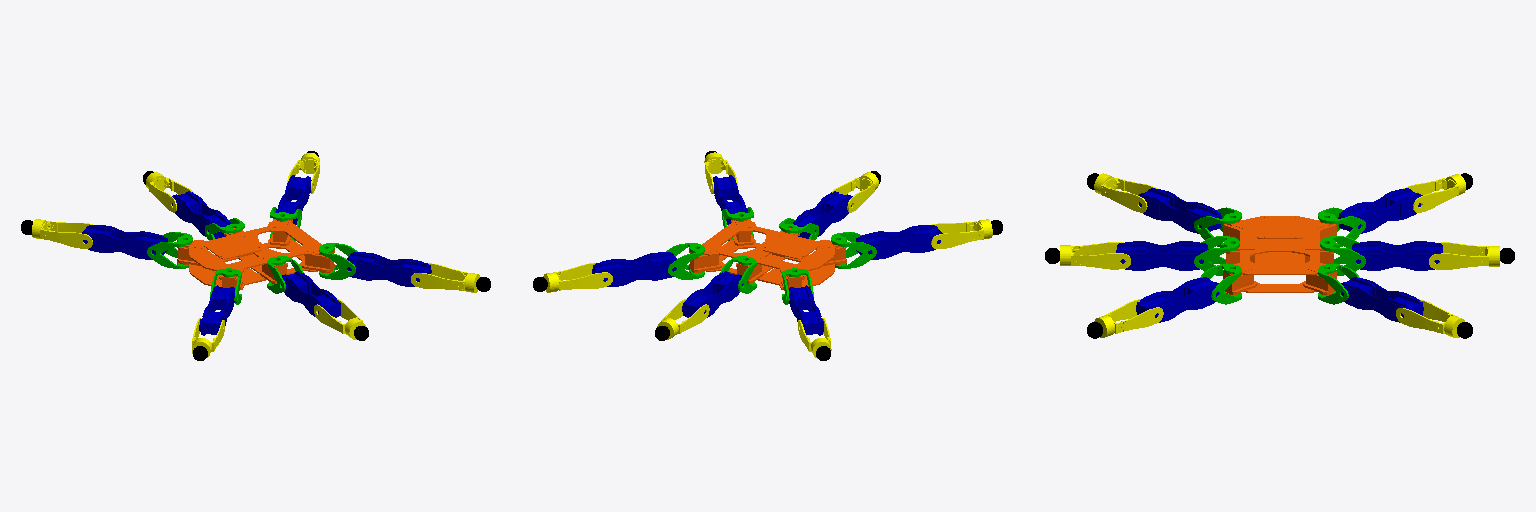
--- Facts derived from the render (not from the file) ---
3 views of the same robot in one strip: view 1: azimuth 30°, elevation 25°; view 2: azimuth 150°, elevation 25°; view 3: azimuth 270°, elevation 25° (orthographic).
Model corin with 25 links and 24 joints (18 revolute, 6 fixed), rooted at body, posed all joints at 0.
Visible links, largest first — view 1: body, rf_upperleg, lr_upperleg, rm_upperleg, lm_upperleg, rf_lowerleg, lr_lowerleg, rr_upperleg, lf_upperleg, lr_hipassembly, rf_hipassembly, lm_lowerleg (+3 smaller); view 2: body, lf_upperleg, rr_upperleg, lm_upperleg, rm_upperleg, lf_lowerleg, rr_lowerleg, lr_upperleg, rf_upperleg, rr_hipassembly, rm_lowerleg, lf_hipassembly (+3 smaller); view 3: body, rm_upperleg, lm_upperleg, rf_upperleg, lf_upperleg, lr_upperleg, rr_upperleg, lm_lowerleg, rm_lowerleg, lf_lowerleg, rf_lowerleg, rr_lowerleg (+7 smaller).
Boxes of the visible links, x1,y1,x2,y2 form: body: (177, 219, 334, 290); rf_upperleg: (347, 252, 431, 286); lr_upperleg: (82, 225, 167, 259); rm_upperleg: (281, 271, 340, 317); lm_upperleg: (172, 191, 230, 238); rf_lowerleg: (411, 263, 479, 292); lr_lowerleg: (32, 219, 92, 248); rr_upperleg: (199, 285, 234, 335); lf_upperleg: (276, 175, 311, 224); lr_hipassembly: (147, 232, 192, 268); rf_hipassembly: (319, 243, 357, 279); lm_lowerleg: (146, 172, 194, 212); body: (689, 219, 846, 290); lf_upperleg: (592, 252, 676, 286); rr_upperleg: (856, 225, 942, 259); lm_upperleg: (682, 271, 742, 317); rm_upperleg: (793, 191, 852, 238); lf_lowerleg: (543, 263, 612, 292); rr_lowerleg: (931, 219, 992, 248); lr_upperleg: (789, 285, 823, 335); rf_upperleg: (713, 175, 747, 224); rr_hipassembly: (831, 232, 876, 268); rm_lowerleg: (832, 172, 878, 212); lf_hipassembly: (666, 243, 704, 279); body: (1223, 216, 1336, 294); rm_upperleg: (1116, 241, 1208, 270); lm_upperleg: (1352, 241, 1442, 270); rf_upperleg: (1136, 277, 1218, 322); lf_upperleg: (1341, 277, 1423, 322); lr_upperleg: (1338, 188, 1422, 233); rr_upperleg: (1138, 188, 1221, 233); lm_lowerleg: (1429, 242, 1499, 269); rm_lowerleg: (1060, 242, 1130, 269); lf_lowerleg: (1396, 299, 1464, 337); rf_lowerleg: (1094, 299, 1163, 337); rr_lowerleg: (1094, 173, 1157, 212).
Bounding box of the posed robot: 0.704 × 0.9 × 0.068 m (x, y, z).
Meshes: 4 distinct files referenced, 19 mesh visuals loaded (3 binary STL, 1 OBJ).

The robot description file, URDF, robot "corin":
<?xml version="1.0"?>
<robot xmlns:xacro="http://www.ros.org/wiki/xacro" name="corin">

	<!-- START OF BODY SECTION!!!!-->
	<link name="body">
		<inertial>
			<origin xyz="0.0 0.0 0.0"/>
			<mass value="1.58"/>
			<inertia ixx="0.00491" iyy="0.007610" izz="0.01123"
					 ixy="0.0" ixz="0.0" iyz="0.0"/> <!-- values above given to 3 sf, 10 sf values available in common.xacro -->
		</inertial>
		<visual>
			<geometry>
				<mesh filename="./meshes/Body2.obj" scale="1 1 1"/> <!--these used to be referenced via ros package, i gave the full file name and moved the files to the drake ws to avoid ROS issues while i figure all this out. Consider coming back and using ROS later to tidy this up -->
			</geometry>
			<material name="orange">
    			<color rgba="1 0.424 0.039 1.0"/>
 			</material> 
		</visual>
		<collision>
			<geometry>
				<mesh filename="./meshes/Body_collision2.obj" scale="1 1 1"/>
			</geometry>
			<material name="colli">
    			<color rgba="1 0.424 0.039 0.7"/>
			</material>
		</collision>
	</link>
	<!--END OF BODY SECTION!!!! -->



	<!--START OF LEFT FRONT LEG SECTION!!!!-->
	<!-- Joints -->
	<!-- Coxa joint -->
	<joint name="lf_q1_joint" type="revolute">
		<origin xyz="0.115 0.09 0" rpy="0 0 0.873"/>
		<parent link="body"/>
		<child  link="lf_hipassembly"/>
		<axis xyz="0 0 1"/>
		
		<limit effort="2.85" velocity="5.23" lower="-1.00" upper="1.00"/>
		<dynamics damping="0.15" friction="0" />
		<!-- <safety_controller k_position="100" k_velocity="100"
						   soft_lower_limit="${-7*PI/18}" soft_upper_limit="${5*PI/36}" /> -->
	</joint>
	<!-- Upper leg joint -->
	<joint name="lf_q2_joint" type="revolute">
		<origin xyz="0.06 0 0" rpy="1.571 0 0"/>
		<parent link="lf_hipassembly"/>
		<child  link="lf_upperleg"/>
		<axis xyz="0 0 1"/>
		<limit effort="2.85" velocity="5.23" lower="-2.22" upper="2.22"/>
		<dynamics damping="0.15" friction="0" />
		<!-- <safety_controller k_position="100" k_velocity="100"
						   soft_lower_limit="${-(1+reflect_front)*5*PI/36-(1-reflect_front)*7*PI/36}"
						   soft_upper_limit="${(1-reflect_front)*5*PI/36+(1+reflect_front)*7*PI/36}" /> -->
	</joint>
	<!-- Lower leg joint -->
	<joint name="lf_q3_joint" type="revolute">
		<origin xyz="0.15 0 0" rpy="0 0 0"/>
		<parent link="lf_upperleg"/>
		<child  link="lf_lowerleg"/>
		<axis xyz="0 0 1"/>
		<limit effort="2.85" velocity="5.23" lower="-2.79" upper="2.79"/>
		<dynamics damping="0.15" friction="0" />
		<!-- <safety_controller k_position="100" k_velocity="100"
						   soft_lower_limit="${-(1+reflect_front)*7*PI/18+(1-reflect_front)*PI/18}"
						   soft_upper_limit="${(1-reflect_front)*7*PI/18-(1+reflect_front)*PI/18}" /> -->

	</joint>
	<!-- Foot joint -->
	<joint name="lf_foot_joint" type="fixed">
		<origin xyz="0.134 0 0" rpy="0 0 0"/>
		<parent link="lf_lowerleg"/>
		<child  link="LF_FOOT"/>
	</joint>


	<!-- Links -->
	<!-- Hip assembly link -->
	<link name="lf_hipassembly">
		<visual>
			<origin rpy="0 0 0" xyz="0 0 0"/>
		      <geometry>
		        <mesh filename="./meshes/Coxa.STL" scale="1 1 1"/>
		      </geometry>
	      	<material name="green">
    			<color rgba="0.0 0.8 0.0 1.0"/>
			</material>
	    </visual>

	    <collision>
	    	<origin rpy="0 0 0" xyz="0 0 0"/>
		    <geometry>
		      <mesh filename="./meshes/Coxa_collision2.obj" scale="1 1 1"/>
		    </geometry>
	      	<material name="orange">
    			<color rgba="1 0.424 0.039 1.0"/>
			</material>
	    </collision>

	    <inertial>
	    	<origin xyz="0.02471 0 0"/>
	      	<mass value="0.0406"/>
	      	<inertia ixx="0.000038" ixy="0.0" ixz="0.0" iyy="0.000038" iyz="0.0" izz="0.000040"/>
	    </inertial>
	  </link>

	<!-- Upper leg link -->
	<link name="lf_upperleg">
		<visual>
	      	<geometry>
	        	<mesh filename="./meshes/Femur.STL" scale="1 1 1"/>
	      	</geometry>
	      	<origin xyz="0 0 0" rpy="0 0 0"/>
	      	<material name="blue">
    			<color rgba="0.0 0.0 0.8 1.0"/>
			</material>
	    </visual>

	    <collision>
	      	<geometry>
	        	<box size= "0.15 0.04 0.04"/>
	      	</geometry>
	      	<origin xyz="0.075 0 0" rpy="0 0 0"/>
	      	<material name="colli">
    			<color rgba="1 0.424 0.039 0.7"/>
			</material>
	    </collision>

	    <inertial>
	      	<mass value="0.35"/>
	      	<inertia ixx="0.000014" ixy="0" ixz="0" iyy="0.000047" iyz="0" izz="0.000051"/>
	      	<origin xyz="0.075 0 0"/>
	    </inertial>
	</link>

	<!-- Lower leg link -->
	<link name="lf_lowerleg">
		<visual>
	      	<geometry>
	      		<mesh filename="./meshes/Tibia.STL" scale="1 1 1"/>
	      	</geometry>
	      	<origin xyz="0 0 0" rpy="1.571 0 0"/>
	      	<material name="yellow">
    			<color rgba="1 1 0 1"/>
			</material>
	    </visual>

	    <collision>
	      	<geometry>
						<mesh filename="./meshes/Tibia_collision2.obj" scale="1 1 1"/>
	        	<!-- <box size= "${tibia_cl} ${tibia_d} ${tibia_w}"/> -->
	      	</geometry>
	      	<origin xyz="0.0 0 0" rpy="1.571 0 0"/>
	      	<material name="colli">
    			<color rgba="1 0.424 0.039 0.7"/>
			</material>
	    </collision>

	    <inertial>
	      	<mass value="0.076"/>
	      	<inertia ixx="0.000025" ixy="0" ixz="0" iyy="0.000105" iyz="0" izz="0.000117"/>
	      	<origin xyz="0.0887 0 0"/>
	    </inertial>
	</link>

	<!-- Foot link -->
	<link name="LF_FOOT">
		<visual>
	      	<geometry>
	        	<sphere radius="0.016"/>
	      	</geometry>
	      	<origin xyz="0 0 0" rpy="0 0 0"/>
	      	<material name="black">
    			<color rgba="0.0 0.0 0.0 1.0"/>
			</material>
	    </visual>

	    <collision>
	      	<geometry>
	        	<sphere radius="0.016"/>
	      	</geometry>
	      	<origin xyz="0 0 0" rpy="0 0 0"/>
	      	<material name="colli">
    			<color rgba="1 0.424 0.039 0.7"/>
			</material>
	    </collision>

	    <inertial>
	      	<mass value="0.040"/>
	      	<inertia ixx="0.000004" ixy="0" ixz="0" iyy="0.000004" iyz="0" izz="0.000004" />
	      	<origin xyz="0 0 0"/>
	    </inertial>
	</link>
	<!--END OF LEFT FRONT LEG SECTION!!!!-->



	<!--START OF LEFT MIDDLE LEG SECTION!!!!-->
	<!-- Joints -->
	<!-- Coxa joint -->
	<joint name="lm_q1_joint" type="revolute">
		<origin xyz="0 0.09 0" rpy="0 0 1.571"/>
		<parent link="body"/>
		<child  link="lm_hipassembly"/>
		<axis xyz="0 0 1"/>
		
		<limit effort="2.85" velocity="5.23" lower="-0.84" upper="0.84"/>
		<dynamics damping="0.15" friction="0" />
		<!-- <safety_controller k_position="100" k_velocity="100"
						   soft_lower_limit="${-7*PI/18}" soft_upper_limit="${5*PI/36}" /> -->
	</joint>
	<!-- Upper leg joint -->
	<joint name="lm_q2_joint" type="revolute">
		<origin xyz="0.06 0 0" rpy="1.571 0 0"/>
		<parent link="lm_hipassembly"/>
		<child  link="lm_upperleg"/>
		<axis xyz="0 0 1"/>
		<limit effort="2.85" velocity="5.23" lower="-2.22" upper="2.22"/>
		<dynamics damping="0.15" friction="0" />
		<!-- <safety_controller k_position="100" k_velocity="100"
						   soft_lower_limit="${-(1+reflect_front)*5*PI/36-(1-reflect_front)*7*PI/36}"
						   soft_upper_limit="${(1-reflect_front)*5*PI/36+(1+reflect_front)*7*PI/36}" /> -->
	</joint>
	<!-- Lower leg joint -->
	<joint name="lm_q3_joint" type="revolute">
		<origin xyz="0.15 0 0" rpy="0 0 0"/>
		<parent link="lm_upperleg"/>
		<child  link="lm_lowerleg"/>
		<axis xyz="0 0 1"/>
		<limit effort="2.85" velocity="5.23" lower="-2.79" upper="2.79"/>
		<dynamics damping="0.15" friction="0" />
		<!-- <safety_controller k_position="100" k_velocity="100"
						   soft_lower_limit="${-(1+reflect_front)*7*PI/18+(1-reflect_front)*PI/18}"
						   soft_upper_limit="${(1-reflect_front)*7*PI/18-(1+reflect_front)*PI/18}" /> -->

	</joint>
	<!-- Foot joint -->
	<joint name="lm_foot_joint" type="fixed">
		<origin xyz="0.134 0 0" rpy="0 0 0"/>
		<parent link="lm_lowerleg"/>
		<child  link="LM_FOOT"/>
	</joint>


	<!-- Links -->
	<!-- Hip assembly link -->
	<link name="lm_hipassembly">
		<visual>
			<origin rpy="0 0 0" xyz="0 0 0"/>
		      <geometry>
		        <mesh filename="./meshes/Coxa.STL" scale="1 1 1"/>
		      </geometry>
	      	<material name="green">
    			<color rgba="0.0 0.8 0.0 1.0"/>
			</material>
	    </visual>

	    <collision>
	    	<origin rpy="0 0 0" xyz="0 0 0"/>
		    <geometry>
		      <mesh filename="./meshes/Coxa_collision2.obj" scale="1 1 1"/>
		    </geometry>
	      	<material name="orange">
    			<color rgba="1 0.424 0.039 1.0"/>
			</material>
	    </collision>

	    <inertial>
	    	<origin xyz="0.02471 0 0"/>
	      	<mass value="0.0406"/>
	      	<inertia ixx="0.000038" ixy="0.0" ixz="0.0" iyy="0.000038" iyz="0.0" izz="0.000040"/>
	    </inertial>
	  </link>

	<!-- Upper leg link -->
	<link name="lm_upperleg">
		<visual>
	      	<geometry>
	        	<mesh filename="./meshes/Femur.STL" scale="1 1 1"/>
	      	</geometry>
	      	<origin xyz="0 0 0" rpy="0 0 0"/>
	      	<material name="blue">
    			<color rgba="0.0 0.0 0.8 1.0"/>
			</material>
	    </visual>

	    <collision>
	      	<geometry>
	        	<box size= "0.15 0.04 0.04"/>
	      	</geometry>
	      	<origin xyz="0.075 0 0" rpy="0 0 0"/>
	      	<material name="colli">
    			<color rgba="1 0.424 0.039 0.7"/>
			</material>
	    </collision>

	    <inertial>
	      	<mass value="0.35"/>
	      	<inertia ixx="0.000014" ixy="0" ixz="0" iyy="0.000047" iyz="0" izz="0.000051"/>
	      	<origin xyz="0.075 0 0"/>
	    </inertial>
	</link>

	<!-- Lower leg link -->
	<link name="lm_lowerleg">
		<visual>
	      	<geometry>
	      		<mesh filename="./meshes/Tibia.STL" scale="1 1 1"/>
	      	</geometry>
	      	<origin xyz="0 0 0" rpy="1.571 0 0"/>
	      	<material name="yellow">
    			<color rgba="1 1 0 1"/>
			</material>
	    </visual>

	    <collision>
	      	<geometry>
						<mesh filename="./meshes/Tibia_collision2.obj" scale="1 1 1"/>
	        	<!-- <box size= "${tibia_cl} ${tibia_d} ${tibia_w}"/> -->
	      	</geometry>
	      	<origin xyz="0.0 0 0" rpy="1.571 0 0"/>
	      	<material name="colli">
    			<color rgba="1 0.424 0.039 0.7"/>
			</material>
	    </collision>

	    <inertial>
	      	<mass value="0.076"/>
	      	<inertia ixx="0.000025" ixy="0" ixz="0" iyy="0.000105" iyz="0" izz="0.000117"/>
	      	<origin xyz="0.0887 0 0"/>
	    </inertial>
	</link>

	<!-- Foot link -->
	<link name="LM_FOOT">
		<visual>
	      	<geometry>
	        	<sphere radius="0.016"/>
	      	</geometry>
	      	<origin xyz="0 0 0" rpy="0 0 0"/>
	      	<material name="black">
    			<color rgba="0.0 0.0 0.0 1.0"/>
			</material>
	    </visual>

	    <collision>
	      	<geometry>
	        	<sphere radius="0.016"/>
	      	</geometry>
	      	<origin xyz="0 0 0" rpy="0 0 0"/>
	      	<material name="colli">
    			<color rgba="1 0.424 0.039 0.7"/>
			</material>
	    </collision>

	    <inertial>
	      	<mass value="0.040"/>
	      	<inertia ixx="0.000004" ixy="0" ixz="0" iyy="0.000004" iyz="0" izz="0.000004" />
	      	<origin xyz="0 0 0"/>
	    </inertial>
	</link>
	<!--END OF LEFT MIDDLE LEG SECTION!!!!-->



	<!--START OF LEFT REAR LEG SECTION!!!!-->
	<!-- Joints -->
	<!-- Coxa joint -->
	<joint name="lr_q1_joint" type="revolute">
		<origin xyz="-0.115 0.09 0" rpy="0 0 2.269"/>
		<parent link="body"/>
		<child  link="lr_hipassembly"/>
		<axis xyz="0 0 1"/>
		
		<limit effort="2.85" velocity="5.23" lower="-1.00" upper="1.00"/>
		<dynamics damping="0.15" friction="0" />
		<!-- <safety_controller k_position="100" k_velocity="100"
						   soft_lower_limit="${-7*PI/18}" soft_upper_limit="${5*PI/36}" /> -->
	</joint>
	<!-- Upper leg joint -->
	<joint name="lr_q2_joint" type="revolute">
		<origin xyz="0.06 0 0" rpy="1.571 0 0"/>
		<parent link="lr_hipassembly"/>
		<child  link="lr_upperleg"/>
		<axis xyz="0 0 1"/>
		<limit effort="2.85" velocity="5.23" lower="-2.22" upper="2.22"/>
		<dynamics damping="0.15" friction="0" />
		<!-- <safety_controller k_position="100" k_velocity="100"
						   soft_lower_limit="${-(1+reflect_front)*5*PI/36-(1-reflect_front)*7*PI/36}"
						   soft_upper_limit="${(1-reflect_front)*5*PI/36+(1+reflect_front)*7*PI/36}" /> -->
	</joint>
	<!-- Lower leg joint -->
	<joint name="lr_q3_joint" type="revolute">
		<origin xyz="0.15 0 0" rpy="0 0 0"/>
		<parent link="lr_upperleg"/>
		<child  link="lr_lowerleg"/>
		<axis xyz="0 0 1"/>
		<limit effort="2.85" velocity="5.23" lower="-2.79" upper="2.79"/>
		<dynamics damping="0.15" friction="0" />
		<!-- <safety_controller k_position="100" k_velocity="100"
						   soft_lower_limit="${-(1+reflect_front)*7*PI/18+(1-reflect_front)*PI/18}"
						   soft_upper_limit="${(1-reflect_front)*7*PI/18-(1+reflect_front)*PI/18}" /> -->

	</joint>
	<!-- Foot joint -->
	<joint name="lr_foot_joint" type="fixed">
		<origin xyz="0.134 0 0" rpy="0 0 0"/>
		<parent link="lr_lowerleg"/>
		<child  link="LH_FOOT"/>
	</joint>


	<!-- Links -->
	<!-- Hip assembly link -->
	<link name="lr_hipassembly">
		<visual>
			<origin rpy="0 0 0" xyz="0 0 0"/>
		      <geometry>
		        <mesh filename="./meshes/Coxa.STL" scale="1 1 1"/>
		      </geometry>
	      	<material name="green">
    			<color rgba="0.0 0.8 0.0 1.0"/>
			</material>
	    </visual>

	    <collision>
	    	<origin rpy="0 0 0" xyz="0 0 0"/>
		    <geometry>
		      <mesh filename="./meshes/Coxa_collision2.obj" scale="1 1 1"/>
		    </geometry>
	      	<material name="orange">
    			<color rgba="1 0.424 0.039 1.0"/>
			</material>
	    </collision>

	    <inertial>
	    	<origin xyz="0.02471 0 0"/>
	      	<mass value="0.0406"/>
	      	<inertia ixx="0.000038" ixy="0.0" ixz="0.0" iyy="0.000038" iyz="0.0" izz="0.000040"/>
	    </inertial>
	  </link>

	<!-- Upper leg link -->
	<link name="lr_upperleg">
		<visual>
	      	<geometry>
	        	<mesh filename="./meshes/Femur.STL" scale="1 1 1"/>
	      	</geometry>
	      	<origin xyz="0 0 0" rpy="0 0 0"/>
	      	<material name="blue">
    			<color rgba="0.0 0.0 0.8 1.0"/>
			</material>
	    </visual>

	    <collision>
	      	<geometry>
	        	<box size= "0.15 0.04 0.04"/>
	      	</geometry>
	      	<origin xyz="0.075 0 0" rpy="0 0 0"/>
	      	<material name="colli">
    			<color rgba="1 0.424 0.039 0.7"/>
			</material>
	    </collision>

	    <inertial>
	      	<mass value="0.35"/>
	      	<inertia ixx="0.000014" ixy="0" ixz="0" iyy="0.000047" iyz="0" izz="0.000051"/>
	      	<origin xyz="0.075 0 0"/>
	    </inertial>
	</link>

	<!-- Lower leg link -->
	<link name="lr_lowerleg">
		<visual>
	      	<geometry>
	      		<mesh filename="./meshes/Tibia.STL" scale="1 1 1"/>
	      	</geometry>
	      	<origin xyz="0 0 0" rpy="1.571 0 0"/>
	      	<material name="yellow">
    			<color rgba="1 1 0 1"/>
			</material>
	    </visual>

	    <collision>
	      	<geometry>
						<mesh filename="./meshes/Tibia_collision2.obj" scale="1 1 1"/>
	        	<!-- <box size= "${tibia_cl} ${tibia_d} ${tibia_w}"/> -->
	      	</geometry>
	      	<origin xyz="0.0 0 0" rpy="1.571 0 0"/>
	      	<material name="colli">
    			<color rgba="1 0.424 0.039 0.7"/>
			</material>
	    </collision>

	    <inertial>
	      	<mass value="0.076"/>
	      	<inertia ixx="0.000025" ixy="0" ixz="0" iyy="0.000105" iyz="0" izz="0.000117"/>
	      	<origin xyz="0.0887 0 0"/>
	    </inertial>
	</link>

	<!-- Foot link -->
	<link name="LH_FOOT">
		<visual>
	      	<geometry>
	        	<sphere radius="0.016"/>
	      	</geometry>
	      	<origin xyz="0 0 0" rpy="0 0 0"/>
	      	<material name="black">
    			<color rgba="0.0 0.0 0.0 1.0"/>
			</material>
	    </visual>

	    <collision>
	      	<geometry>
	        	<sphere radius="0.016"/>
	      	</geometry>
	      	<origin xyz="0 0 0" rpy="0 0 0"/>
	      	<material name="colli">
    			<color rgba="1 0.424 0.039 0.7"/>
			</material>
	    </collision>

	    <inertial>
	      	<mass value="0.040"/>
	      	<inertia ixx="0.000004" ixy="0" ixz="0" iyy="0.000004" iyz="0" izz="0.000004" />
	      	<origin xyz="0 0 0"/>
	    </inertial>
	</link>
	<!--END OF LEFT REAR LEG SECTION!!!!-->




	<!--START OF RIGHT FRONT LEG SECTION!!!!-->
	<!-- Joints -->
	<!-- Coxa joint -->
	<joint name="rf_q1_joint" type="revolute">
		<origin xyz="0.115 -0.09 0" rpy="0 0 -0.873"/>
		<parent link="body"/>
		<child  link="rf_hipassembly"/>
		<axis xyz="0 0 1"/>
		
		<limit effort="2.85" velocity="5.23" lower="-1.00" upper="1.00"/>
		<dynamics damping="0.15" friction="0" />
		<!-- <safety_controller k_position="100" k_velocity="100"
						   soft_lower_limit="${-7*PI/18}" soft_upper_limit="${5*PI/36}" /> -->
	</joint>
	<!-- Upper leg joint -->
	<joint name="rf_q2_joint" type="revolute">
		<origin xyz="0.06 0 0" rpy="1.571 0 0"/>
		<parent link="rf_hipassembly"/>
		<child  link="rf_upperleg"/>
		<axis xyz="0 0 1"/>
		<limit effort="2.85" velocity="5.23" lower="-2.22" upper="2.22"/>
		<dynamics damping="0.15" friction="0" />
		<!-- <safety_controller k_position="100" k_velocity="100"
						   soft_lower_limit="${-(1+reflect_front)*5*PI/36-(1-reflect_front)*7*PI/36}"
						   soft_upper_limit="${(1-reflect_front)*5*PI/36+(1+reflect_front)*7*PI/36}" /> -->
	</joint>
	<!-- Lower leg joint -->
	<joint name="rf_q3_joint" type="revolute">
		<origin xyz="0.15 0 0" rpy="0 0 0"/>
		<parent link="rf_upperleg"/>
		<child  link="rf_lowerleg"/>
		<axis xyz="0 0 1"/>
		<limit effort="2.85" velocity="5.23" lower="-2.79" upper="2.79"/>
		<dynamics damping="0.15" friction="0" />
		<!-- <safety_controller k_position="100" k_velocity="100"
						   soft_lower_limit="${-(1+reflect_front)*7*PI/18+(1-reflect_front)*PI/18}"
						   soft_upper_limit="${(1-reflect_front)*7*PI/18-(1+reflect_front)*PI/18}" /> -->

	</joint>
	<!-- Foot joint -->
	<joint name="rf_foot_joint" type="fixed">
		<origin xyz="0.134 0 0" rpy="0 0 0"/>
		<parent link="rf_lowerleg"/>
		<child  link="RF_FOOT"/>
	</joint>


	<!-- Links -->
	<!-- Hip assembly link -->
	<link name="rf_hipassembly">
		<visual>
			<origin rpy="0 0 0" xyz="0 0 0"/>
		      <geometry>
		        <mesh filename="./meshes/Coxa.STL" scale="1 1 1"/>
		      </geometry>
	      	<material name="green">
    			<color rgba="0.0 0.8 0.0 1.0"/>
			</material>
	    </visual>

	    <collision>
	    	<origin rpy="0 0 0" xyz="0 0 0"/>
		    <geometry>
		      <mesh filename="./meshes/Coxa_collision2.obj" scale="1 1 1"/>
		    </geometry>
	      	<material name="orange">
    			<color rgba="1 0.424 0.039 1.0"/>
			</material>
	    </collision>

	    <inertial>
	    	<origin xyz="0.02471 0 0"/>
	      	<mass value="0.0406"/>
	      	<inertia ixx="0.000038" ixy="0.0" ixz="0.0" iyy="0.000038" iyz="0.0" izz="0.000040"/>
	    </inertial>
	  </link>

	<!-- Upper leg link -->
	<link name="rf_upperleg">
		<visual>
	      	<geometry>
	        	<mesh filename="./meshes/Femur.STL" scale="1 1 1"/>
	      	</geometry>
	      	<origin xyz="0 0 0" rpy="0 0 0"/>
	      	<material name="blue">
    			<color rgba="0.0 0.0 0.8 1.0"/>
			</material>
	    </visual>

	    <collision>
	      	<geometry>
	        	<box size= "0.15 0.04 0.04"/>
	      	</geometry>
	      	<origin xyz="0.075 0 0" rpy="0 0 0"/>
	      	<material name="colli">
    			<color rgba="1 0.424 0.039 0.7"/>
			</material>
	    </collision>

	    <inertial>
	      	<mass value="0.35"/>
	      	<inertia ixx="0.000014" ixy="0" ixz="0" iyy="0.000047" iyz="0" izz="0.000051"/>
	      	<origin xyz="0.075 0 0"/>
	    </inertial>
	</link>

	<!-- Lower leg link -->
	<link name="rf_lowerleg">
		<visual>
	      	<geometry>
	      		<mesh filename="./meshes/Tibia.STL" scale="1 1 1"/>
	      	</geometry>
	      	<origin xyz="0 0 0" rpy="1.571 0 0"/>
	      	<material name="yellow">
    			<color rgba="1 1 0 1"/>
			</material>
	    </visual>

	    <collision>
	      	<geometry>
						<mesh filename="./meshes/Tibia_collision2.obj" scale="1 1 1"/>
	        	<!-- <box size= "${tibia_cl} ${tibia_d} ${tibia_w}"/> -->
	      	</geometry>
	      	<origin xyz="0.0 0 0" rpy="1.571 0 0"/>
	      	<material name="colli">
    			<color rgba="1 0.424 0.039 0.7"/>
			</material>
	    </collision>

	    <inertial>
	      	<mass value="0.076"/>
	      	<inertia ixx="0.000025" ixy="0" ixz="0" iyy="0.000105" iyz="0" izz="0.000117"/>
	      	<origin xyz="0.0887 0 0"/>
	    </inertial>
	</link>

	<!-- Foot link -->
	<link name="RF_FOOT">
		<visual>
	      	<geometry>
	        	<sphere radius="0.016"/>
	      	</geometry>
	      	<origin xyz="0 0 0" rpy="0 0 0"/>
	      	<material name="black">
    			<color rgba="0.0 0.0 0.0 1.0"/>
			</material>
	    </visual>

	    <collision>
	      	<geometry>
	        	<sphere radius="0.016"/>
	      	</geometry>
	      	<origin xyz="0 0 0" rpy="0 0 0"/>
	      	<material name="colli">
    			<color rgba="1 0.424 0.039 0.7"/>
			</material>
	    </collision>

	    <inertial>
	      	<mass value="0.040"/>
	      	<inertia ixx="0.000004" ixy="0" ixz="0" iyy="0.000004" iyz="0" izz="0.000004" />
	      	<origin xyz="0 0 0"/>
	    </inertial>
	</link>
	<!--END OF RIGHT FRONT LEG SECTION!!!!-->


	<!--START OF RIGHT MIDDLE LEG SECTION!!!!-->
	<!-- Joints -->
	<!-- Coxa joint -->
	<joint name="rm_q1_joint" type="revolute">
		<origin xyz="0 -0.09 0" rpy="0 0 -1.571"/> <!--PUT ORIGIN OF LEG HERE-->
		<parent link="body"/>
		<child  link="rm_hipassembly"/>
		<axis xyz="0 0 1"/>
		
		<limit effort="2.85" velocity="5.23" lower="-0.84" upper="0.84"/>
		<dynamics damping="0.15" friction="0" />
		<!-- <safety_controller k_position="100" k_velocity="100"
						   soft_lower_limit="${-7*PI/18}" soft_upper_limit="${5*PI/36}" /> -->
	</joint>
	<!-- Upper leg joint -->
	<joint name="rm_q2_joint" type="revolute">
		<origin xyz="0.06 0 0" rpy="1.571 0 0"/>
		<parent link="rm_hipassembly"/>
		<child  link="rm_upperleg"/>
		<axis xyz="0 0 1"/>
		<limit effort="2.85" velocity="5.23" lower="-2.22" upper="2.22"/>
		<dynamics damping="0.15" friction="0" />
		<!-- <safety_controller k_position="100" k_velocity="100"
						   soft_lower_limit="${-(1+reflect_front)*5*PI/36-(1-reflect_front)*7*PI/36}"
						   soft_upper_limit="${(1-reflect_front)*5*PI/36+(1+reflect_front)*7*PI/36}" /> -->
	</joint>
	<!-- Lower leg joint -->
	<joint name="rm_q3_joint" type="revolute">
		<origin xyz="0.15 0 0" rpy="0 0 0"/>
		<parent link="rm_upperleg"/>
		<child  link="rm_lowerleg"/>
		<axis xyz="0 0 1"/>
		<limit effort="2.85" velocity="5.23" lower="-2.79" upper="2.79"/>
		<dynamics damping="0.15" friction="0" />
		<!-- <safety_controller k_position="100" k_velocity="100"
						   soft_lower_limit="${-(1+reflect_front)*7*PI/18+(1-reflect_front)*PI/18}"
						   soft_upper_limit="${(1-reflect_front)*7*PI/18-(1+reflect_front)*PI/18}" /> -->

	</joint>
	<!-- Foot joint -->
	<joint name="rm_foot_joint" type="fixed">
		<origin xyz="0.134 0 0" rpy="0 0 0"/>
		<parent link="rm_lowerleg"/>
		<child  link="RM_FOOT"/>
	</joint>


	<!-- Links -->
	<!-- Hip assembly link -->
	<link name="rm_hipassembly">
		<visual>
			<origin rpy="0 0 0" xyz="0 0 0"/>
		      <geometry>
		        <mesh filename="./meshes/Coxa.STL" scale="1 1 1"/>
		      </geometry>
	      	<material name="green">
    			<color rgba="0.0 0.8 0.0 1.0"/>
			</material>
	    </visual>

	    <collision>
	    	<origin rpy="0 0 0" xyz="0 0 0"/>
		    <geometry>
		      <mesh filename="./meshes/Coxa_collision2.obj" scale="1 1 1"/>
		    </geometry>
	      	<material name="orange">
    			<color rgba="1 0.424 0.039 1.0"/>
			</material>
	    </collision>

	    <inertial>
	    	<origin xyz="0.02471 0 0"/>
	      	<mass value="0.0406"/>
	      	<inertia ixx="0.000038" ixy="0.0" ixz="0.0" iyy="0.000038" iyz="0.0" izz="0.000040"/>
	    </inertial>
	  </link>

	<!-- Upper leg link -->
	<link name="rm_upperleg">
		<visual>
	      	<geometry>
	        	<mesh filename="./meshes/Femur.STL" scale="1 1 1"/>
	      	</geometry>
	      	<origin xyz="0 0 0" rpy="0 0 0"/>
	      	<material name="blue">
    			<color rgba="0.0 0.0 0.8 1.0"/>
			</material>
	    </visual>

	    <collision>
	      	<geometry>
	        	<box size= "0.15 0.04 0.04"/>
	      	</geometry>
	      	<origin xyz="0.075 0 0" rpy="0 0 0"/>
	      	<material name="colli">
    			<color rgba="1 0.424 0.039 0.7"/>
			</material>
	    </collision>

	    <inertial>
	      	<mass value="0.35"/>
	      	<inertia ixx="0.000014" ixy="0" ixz="0" iyy="0.000047" iyz="0" izz="0.000051"/>
	      	<origin xyz="0.075 0 0"/>
	    </inertial>
	</link>

	<!-- Lower leg link -->
	<link name="rm_lowerleg">
		<visual>
	      	<geometry>
	      		<mesh filename="./meshes/Tibia.STL" scale="1 1 1"/>
	      	</geometry>
	      	<origin xyz="0 0 0" rpy="1.571 0 0"/>
	      	<material name="yellow">
    			<color rgba="1 1 0 1"/>
			</material>
	    </visual>

	    <collision>
	      	<geometry>
						<mesh filename="./meshes/Tibia_collision2.obj" scale="1 1 1"/>
	        	<!-- <box size= "${tibia_cl} ${tibia_d} ${tibia_w}"/> -->
	      	</geometry>
	      	<origin xyz="0.0 0 0" rpy="1.571 0 0"/>
	      	<material name="colli">
    			<color rgba="1 0.424 0.039 0.7"/>
			</material>
	    </collision>

	    <inertial>
	      	<mass value="0.076"/>
	      	<inertia ixx="0.000025" ixy="0" ixz="0" iyy="0.000105" iyz="0" izz="0.000117"/>
	      	<origin xyz="0.0887 0 0"/>
	    </inertial>
	</link>

	<!-- Foot link -->
	<link name="RM_FOOT">
		<visual>
	      	<geometry>
	        	<sphere radius="0.016"/>
	      	</geometry>
	      	<origin xyz="0 0 0" rpy="0 0 0"/>
	      	<material name="black">
    			<color rgba="0.0 0.0 0.0 1.0"/>
			</material>
	    </visual>

	    <collision>
	      	<geometry>
	        	<sphere radius="0.016"/>
	      	</geometry>
	      	<origin xyz="0 0 0" rpy="0 0 0"/>
	      	<material name="colli">
    			<color rgba="1 0.424 0.039 0.7"/>
			</material>
	    </collision>

	    <inertial>
	      	<mass value="0.040"/>
	      	<inertia ixx="0.000004" ixy="0" ixz="0" iyy="0.000004" iyz="0" izz="0.000004" />
	      	<origin xyz="0 0 0"/>
	    </inertial>
	</link>
	<!--END OF LEFT FRONT LEG SECTION!!!!-->


	<!--START OF RIGHT REAR LEG SECTION!!!!-->
	<!-- Joints -->
	<!-- Coxa joint -->
	<joint name="rr_q1_joint" type="revolute">
		<origin xyz="-0.115 -0.09 0" rpy="0 0 -2.269"/>
		<parent link="body"/>
		<child  link="rr_hipassembly"/>
		<axis xyz="0 0 1"/>
		
		<limit effort="2.85" velocity="5.23" lower="-1.00" upper="1.00"/>
		<dynamics damping="0.15" friction="0" />
		<!-- <safety_controller k_position="100" k_velocity="100"
						   soft_lower_limit="${-7*PI/18}" soft_upper_limit="${5*PI/36}" /> -->
	</joint>
	<!-- Upper leg joint -->
	<joint name="rr_q2_joint" type="revolute">
		<origin xyz="0.06 0 0" rpy="1.571 0 0"/>
		<parent link="rr_hipassembly"/>
		<child  link="rr_upperleg"/>
		<axis xyz="0 0 1"/>
		<limit effort="2.85" velocity="5.23" lower="-2.22" upper="2.22"/>
		<dynamics damping="0.15" friction="0" />
		<!-- <safety_controller k_position="100" k_velocity="100"
						   soft_lower_limit="${-(1+reflect_front)*5*PI/36-(1-reflect_front)*7*PI/36}"
						   soft_upper_limit="${(1-reflect_front)*5*PI/36+(1+reflect_front)*7*PI/36}" /> -->
	</joint>
	<!-- Lower leg joint -->
	<joint name="rr_q3_joint" type="revolute">
		<origin xyz="0.15 0 0" rpy="0 0 0"/>
		<parent link="rr_upperleg"/>
		<child  link="rr_lowerleg"/>
		<axis xyz="0 0 1"/>
		<limit effort="2.85" velocity="5.23" lower="-2.79" upper="2.79"/>
		<dynamics damping="0.15" friction="0" />
		<!-- <safety_controller k_position="100" k_velocity="100"
						   soft_lower_limit="${-(1+reflect_front)*7*PI/18+(1-reflect_front)*PI/18}"
						   soft_upper_limit="${(1-reflect_front)*7*PI/18-(1+reflect_front)*PI/18}" /> -->

	</joint>
	<!-- Foot joint -->
	<joint name="rr_foot_joint" type="fixed">
		<origin xyz="0.134 0 0" rpy="0 0 0"/>
		<parent link="rr_lowerleg"/>
		<child  link="RH_FOOT"/>
	</joint>


	<!-- Links -->
	<!-- Hip assembly link -->
	<link name="rr_hipassembly">
		<visual>
			<origin rpy="0 0 0" xyz="0 0 0"/>
		      <geometry>
		        <mesh filename="./meshes/Coxa.STL" scale="1 1 1"/>
		      </geometry>
	      	<material name="green">
    			<color rgba="0.0 0.8 0.0 1.0"/>
			</material>
	    </visual>

	    <collision>
	    	<origin rpy="0 0 0" xyz="0 0 0"/>
		    <geometry>
		      <mesh filename="./meshes/Coxa_collision2.obj" scale="1 1 1"/>
		    </geometry>
	      	<material name="orange">
    			<color rgba="1 0.424 0.039 1.0"/>
			</material>
	    </collision>

	    <inertial>
	    	<origin xyz="0.02471 0 0"/>
	      	<mass value="0.0406"/>
	      	<inertia ixx="0.000038" ixy="0.0" ixz="0.0" iyy="0.000038" iyz="0.0" izz="0.000040"/>
	    </inertial>
	  </link>

	<!-- Upper leg link -->
	<link name="rr_upperleg">
		<visual>
	      	<geometry>
	        	<mesh filename="./meshes/Femur.STL" scale="1 1 1"/>
	      	</geometry>
	      	<origin xyz="0 0 0" rpy="0 0 0"/>
	      	<material name="blue">
    			<color rgba="0.0 0.0 0.8 1.0"/>
			</material>
	    </visual>

	    <collision>
	      	<geometry>
	        	<box size= "0.15 0.04 0.04"/>
	      	</geometry>
	      	<origin xyz="0.075 0 0" rpy="0 0 0"/>
	      	<material name="colli">
    			<color rgba="1 0.424 0.039 0.7"/>
			</material>
	    </collision>

	    <inertial>
	      	<mass value="0.35"/>
	      	<inertia ixx="0.000014" ixy="0" ixz="0" iyy="0.000047" iyz="0" izz="0.000051"/>
	      	<origin xyz="0.075 0 0"/>
	    </inertial>
	</link>

	<!-- Lower leg link -->
	<link name="rr_lowerleg">
		<visual>
	      	<geometry>
	      		<mesh filename="./meshes/Tibia.STL" scale="1 1 1"/>
	      	</geometry>
	      	<origin xyz="0 0 0" rpy="1.571 0 0"/>
	      	<material name="yellow">
    			<color rgba="1 1 0 1"/>
			</material>
	    </visual>

	    <collision>
	      	<geometry>
						<mesh filename="./meshes/Tibia_collision2.obj" scale="1 1 1"/>
	        	<!-- <box size= "${tibia_cl} ${tibia_d} ${tibia_w}"/> -->
	      	</geometry>
	      	<origin xyz="0.0 0 0" rpy="1.571 0 0"/>
	      	<material name="colli">
    			<color rgba="1 0.424 0.039 0.7"/>
			</material>
	    </collision>

	    <inertial>
	      	<mass value="0.076"/>
	      	<inertia ixx="0.000025" ixy="0" ixz="0" iyy="0.000105" iyz="0" izz="0.000117"/>
	      	<origin xyz="0.0887 0 0"/>
	    </inertial>
	</link>

	<!-- Foot link -->
	<link name="RH_FOOT">
		<visual>
	      	<geometry>
	        	<sphere radius="0.016"/>
	      	</geometry>
	      	<origin xyz="0 0 0" rpy="0 0 0"/>
	      	<material name="black">
    			<color rgba="0.0 0.0 0.0 1.0"/>
			</material>
	    </visual>

	    <collision>
	      	<geometry>
	        	<sphere radius="0.016"/>
	      	</geometry>
	      	<origin xyz="0 0 0" rpy="0 0 0"/>
	      	<material name="colli">
    			<color rgba="1 0.424 0.039 0.7"/>
			</material>
	    </collision>

	    <inertial>
	      	<mass value="0.040"/>
	      	<inertia ixx="0.000004" ixy="0" ixz="0" iyy="0.000004" iyz="0" izz="0.000004" />
	      	<origin xyz="0 0 0"/>
	    </inertial>
	</link>
	<!--END OF RIGHT REAR LEG SECTION!!!!-->

	<!-- Sensors 
	<xacro:IMU
		parent="body"
		imu_name="base_imu"
		imu_topic="base/data"
		imu_service="trunk/service"
		update_rate="100">
		<origin xyz="0.0 0.0 0.022" rpy="0 0 0"/>
	</xacro:IMU>
	
	<xacro:LIDAR
		parent="body"
		lidar_name="trunk_lidar"
		lidar_topic="lidar/data"
		update_rate="100">
		<origin xyz="0.06 0.0 0.04" rpy="0 0 1.571"/>
	</xacro:LIDAR> -->

<!-- Joint Transmissions: Tells Drake that these are actuated-->

	<!-- START OF LEFT FRONT LEG TRANSMISSION -->
    <!-- Hip assembly -->
	<transmission name="lf_q1_trans">
		<type>transmission_interface/SimpleTransmission</type>
		<joint name="lf_q1_joint">
			<hardwareInterface>hardware_interface/EffortJointInterface</hardwareInterface>
		</joint>
		<actuator name="lf_q1_motor">
			<hardwareInterface>EffortJointInterface</hardwareInterface>
			<mechanicalReduction>200</mechanicalReduction>
		</actuator>
	</transmission>
	<!-- Upper leg -->
	<transmission name="lf_q2_trans">
		<type>transmission_interface/SimpleTransmission</type>
		<joint name="lf_q2_joint">
			<hardwareInterface>hardware_interface/EffortJointInterface</hardwareInterface>
		</joint>
		<actuator name="lf_q2_motor">
			<hardwareInterface>EffortJointInterface</hardwareInterface>
			<mechanicalReduction>200</mechanicalReduction>
		</actuator>
	</transmission>
	<!-- Lower leg -->
	<transmission name="lf_q3_trans">
		<type>transmission_interface/SimpleTransmission</type>
		<joint name="lf_q3_joint">
			<hardwareInterface>hardware_interface/EffortJointInterface</hardwareInterface>
		</joint>
		<actuator name="lf_q3_motor">
			<hardwareInterface>EffortJointInterface</hardwareInterface>
			<mechanicalReduction>200</mechanicalReduction>
		</actuator>
	</transmission>
	<!-- END OF LEFT FRONT LEG TRANSMISSION -->



	<!-- START OF LEFT BACK LEG TRANSMISSION -->
    <!-- Hip assembly -->
	<transmission name="lr_q1_trans">
		<type>transmission_interface/SimpleTransmission</type>
		<joint name="lr_q1_joint">
			<hardwareInterface>hardware_interface/EffortJointInterface</hardwareInterface>
		</joint>
		<actuator name="lr_q1_motor">
			<hardwareInterface>EffortJointInterface</hardwareInterface>
			<mechanicalReduction>200</mechanicalReduction>
		</actuator>
	</transmission>
	<!-- Upper leg -->
	<transmission name="lr_q2_trans">
		<type>transmission_interface/SimpleTransmission</type>
		<joint name="lr_q2_joint">
			<hardwareInterface>hardware_interface/EffortJointInterface</hardwareInterface>
		</joint>
		<actuator name="lr_q2_motor">
			<hardwareInterface>EffortJointInterface</hardwareInterface>
			<mechanicalReduction>200</mechanicalReduction>
		</actuator>
	</transmission>
	<!-- Lower leg -->
	<transmission name="lr_q3_trans">
		<type>transmission_interface/SimpleTransmission</type>
		<joint name="lr_q3_joint">
			<hardwareInterface>hardware_interface/EffortJointInterface</hardwareInterface>
		</joint>
		<actuator name="lr_q3_motor">
			<hardwareInterface>EffortJointInterface</hardwareInterface>
			<mechanicalReduction>200</mechanicalReduction>
		</actuator>
	</transmission>
	<!-- END OF LEFT BACK LEG TRANSMISSION -->



	<!-- START OF LEFT MIDDLE LEG TRANSMISSION -->
	<!-- Hip assembly -->
		<transmission name="lm_q1_trans">
			<type>transmission_interface/SimpleTransmission</type>
			<joint name="lm_q1_joint">
				<hardwareInterface>hardware_interface/EffortJointInterface</hardwareInterface>
			</joint>
			<actuator name="lm_q1_motor">
				<hardwareInterface>EffortJointInterface</hardwareInterface>
				<mechanicalReduction>200</mechanicalReduction>
			</actuator>
		</transmission>
    	<!-- Upper leg -->
		<transmission name="lm_q2_trans">
			<type>transmission_interface/SimpleTransmission</type>
			<joint name="lm_q2_joint">
				<hardwareInterface>hardware_interface/EffortJointInterface</hardwareInterface>
			</joint>
			<actuator name="lm_q2_motor">
				<hardwareInterface>EffortJointInterface</hardwareInterface>
				<mechanicalReduction>200</mechanicalReduction>
			</actuator>
		</transmission>
    	<!-- Lower leg -->
		<transmission name="lm_q3_trans">
			<type>transmission_interface/SimpleTransmission</type>
			<joint name="lm_q3_joint">
				<hardwareInterface>hardware_interface/EffortJointInterface</hardwareInterface>
			</joint>
			<actuator name="lm_q3_motor">
				<hardwareInterface>EffortJointInterface</hardwareInterface>
				<mechanicalReduction>200</mechanicalReduction>
			</actuator>
		</transmission>
	<!-- END OF LEFT MIDDLE LEG TRANSMISSION -->



	<!-- START OF RIGHT FRONT LEG TRANSMISSION -->
    <!-- Hip assembly -->
	<transmission name="rf_q1_trans">
		<type>transmission_interface/SimpleTransmission</type>
		<joint name="rf_q1_joint">
			<hardwareInterface>hardware_interface/EffortJointInterface</hardwareInterface>
		</joint>
		<actuator name="rf_q1_motor">
			<hardwareInterface>EffortJointInterface</hardwareInterface>
			<mechanicalReduction>200</mechanicalReduction>
		</actuator>
	</transmission>
	<!-- Upper leg -->
	<transmission name="rf_q2_trans">
		<type>transmission_interface/SimpleTransmission</type>
		<joint name="rf_q2_joint">
			<hardwareInterface>hardware_interface/EffortJointInterface</hardwareInterface>
		</joint>
		<actuator name="rf_q2_motor">
			<hardwareInterface>EffortJointInterface</hardwareInterface>
			<mechanicalReduction>200</mechanicalReduction>
		</actuator>
	</transmission>
	<!-- Lower leg -->
	<transmission name="rf_q3_trans">
		<type>transmission_interface/SimpleTransmission</type>
		<joint name="rf_q3_joint">
			<hardwareInterface>hardware_interface/EffortJointInterface</hardwareInterface>
		</joint>
		<actuator name="rf_q3_motor">
			<hardwareInterface>EffortJointInterface</hardwareInterface>
			<mechanicalReduction>200</mechanicalReduction>
		</actuator>
	</transmission>
	<!-- END OF RIGHT FRONT LEG TRANSMISSION -->



	<!-- START OF RIGHT MIDDLE LEG TRANSMISSION -->
	<!-- Hip assembly -->
		<transmission name="rm_q1_trans">
			<type>transmission_interface/SimpleTransmission</type>
			<joint name="rm_q1_joint">
				<hardwareInterface>hardware_interface/EffortJointInterface</hardwareInterface>
			</joint>
			<actuator name="rm_q1_motor">
				<hardwareInterface>EffortJointInterface</hardwareInterface>
				<mechanicalReduction>200</mechanicalReduction>
			</actuator>
		</transmission>
    	<!-- Upper leg -->
		<transmission name="rm_q2_trans">
			<type>transmission_interface/SimpleTransmission</type>
			<joint name="rm_q2_joint">
				<hardwareInterface>hardware_interface/EffortJointInterface</hardwareInterface>
			</joint>
			<actuator name="rm_q2_motor">
				<hardwareInterface>EffortJointInterface</hardwareInterface>
				<mechanicalReduction>200</mechanicalReduction>
			</actuator>
		</transmission>
    	<!-- Lower leg -->
		<transmission name="rm_q3_trans">
			<type>transmission_interface/SimpleTransmission</type>
			<joint name="rm_q3_joint">
				<hardwareInterface>hardware_interface/EffortJointInterface</hardwareInterface>
			</joint>
			<actuator name="rm_q3_motor">
				<hardwareInterface>EffortJointInterface</hardwareInterface>
				<mechanicalReduction>200</mechanicalReduction>
			</actuator>
		</transmission>
	<!-- END OF RIGHT MIDDLE LEG TRANSMISSION -->



	<!-- START OF RIGHT BACK LEG TRANSMISSION -->
    <!-- Hip assembly -->
	<transmission name="rr_q1_trans">
		<type>transmission_interface/SimpleTransmission</type>
		<joint name="rr_q1_joint">
			<hardwareInterface>hardware_interface/EffortJointInterface</hardwareInterface>
		</joint>
		<actuator name="rr_q1_motor">
			<hardwareInterface>EffortJointInterface</hardwareInterface>
			<mechanicalReduction>200</mechanicalReduction>
		</actuator>
	</transmission>
	<!-- Upper leg -->
	<transmission name="rr_q2_trans">
		<type>transmission_interface/SimpleTransmission</type>
		<joint name="rr_q2_joint">
			<hardwareInterface>hardware_interface/EffortJointInterface</hardwareInterface>
		</joint>
		<actuator name="rr_q2_motor">
			<hardwareInterface>EffortJointInterface</hardwareInterface>
			<mechanicalReduction>200</mechanicalReduction>
		</actuator>
	</transmission>
	<!-- Lower leg -->
	<transmission name="rr_q3_trans">
		<type>transmission_interface/SimpleTransmission</type>
		<joint name="rr_q3_joint">
			<hardwareInterface>hardware_interface/EffortJointInterface</hardwareInterface>
		</joint>
		<actuator name="rr_q3_motor">
			<hardwareInterface>EffortJointInterface</hardwareInterface>
			<mechanicalReduction>200</mechanicalReduction>
		</actuator>
	</transmission>
	<!-- END OF RIGHT BACK LEG TRANSMISSION -->

</robot>
